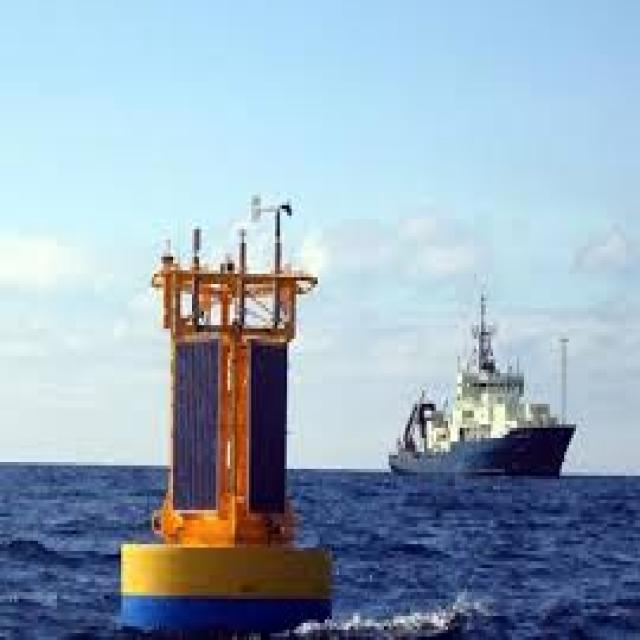marque: (99, 183, 339, 627)
